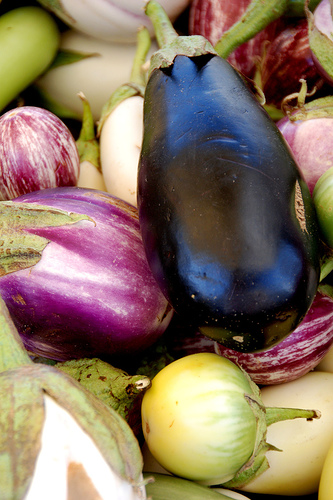eggplant: (130, 4, 326, 362)
